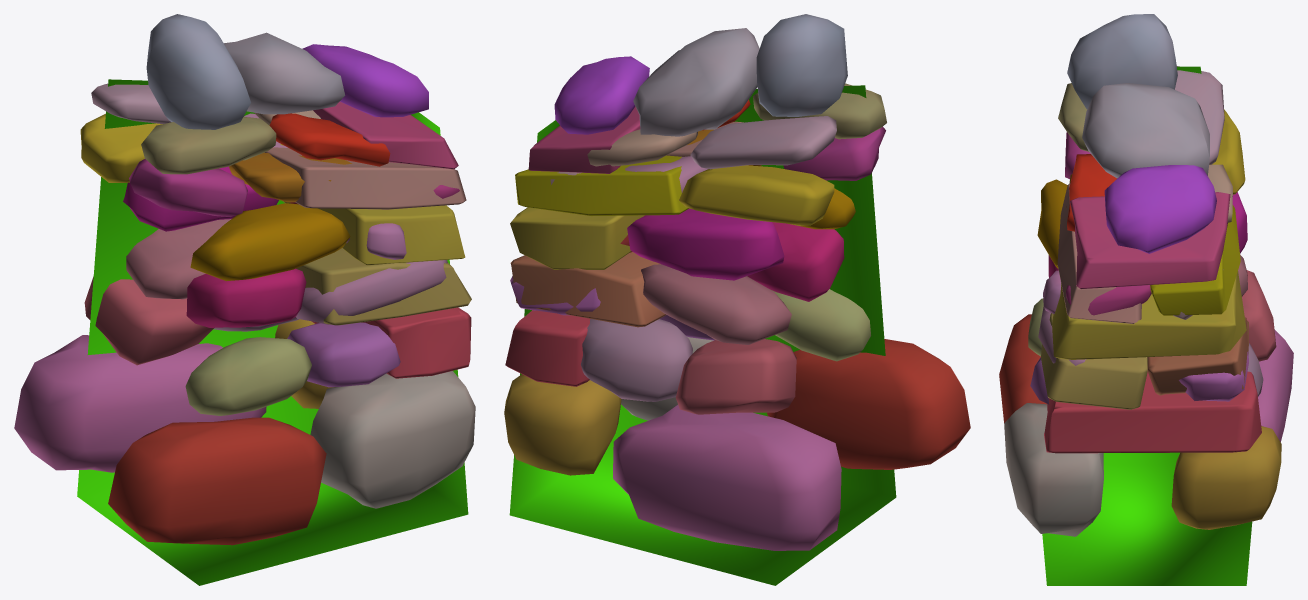
File: SM_Prop_wall_end_17.glb
3 views of the same model, side by side, from view 1: azimuth 30°, elevation 25°; view 2: azimuth 150°, elevation 25°; view 3: azimuth 270°, elevation 25° (orthographic). The views are drawn at different scales.
Parts seen in each view (by area): view 1: SM_Prop_wall_end_17; view 2: SM_Prop_wall_end_17; view 3: SM_Prop_wall_end_17.
Boxes of the visible parts, left/top/right/bottom form: SM_Prop_wall_end_17: left=14, top=14, right=475, bottom=585; SM_Prop_wall_end_17: left=504, top=14, right=970, bottom=585; SM_Prop_wall_end_17: left=999, top=14, right=1293, bottom=585.
Bounding box in the file's own units: 1.24 × 1.72 × 0.9854.
